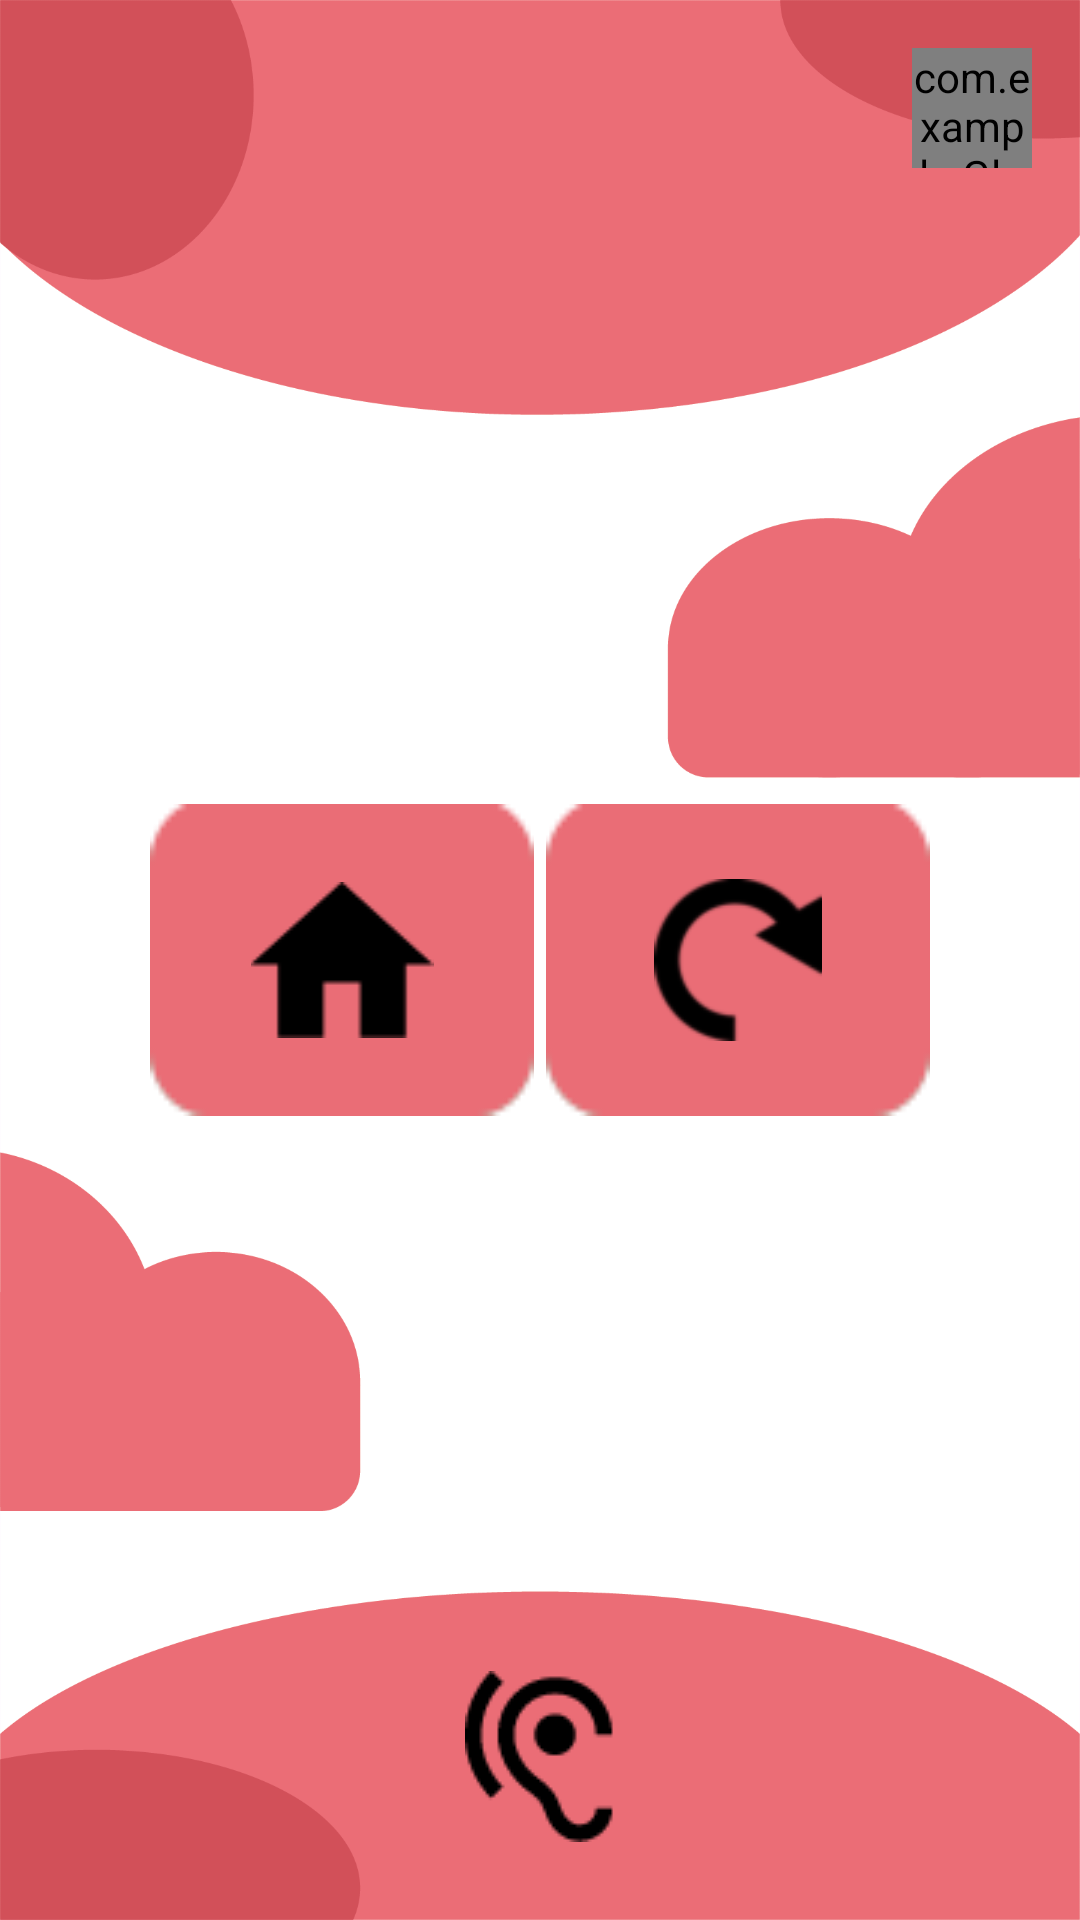

Icons on this 1080 x 1920 Android screen, each with its box as [x1,y1,x2,y2]:
home: [251,882,434,1038]
pictogram oortje: [465,1671,613,1842]
redo: [654,879,822,1041]
